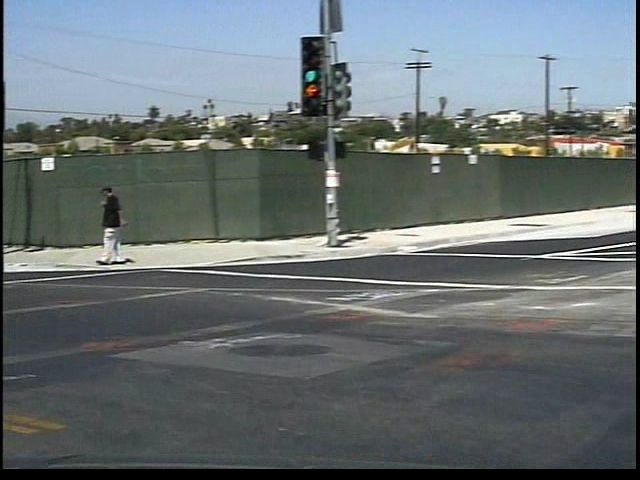person: (82, 181, 126, 279)
